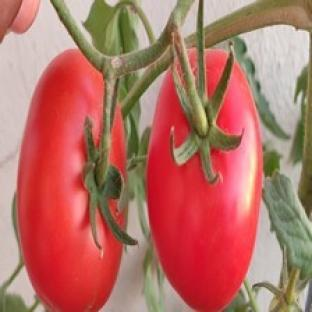Tomato: (147, 63, 261, 311), (17, 49, 122, 311)
